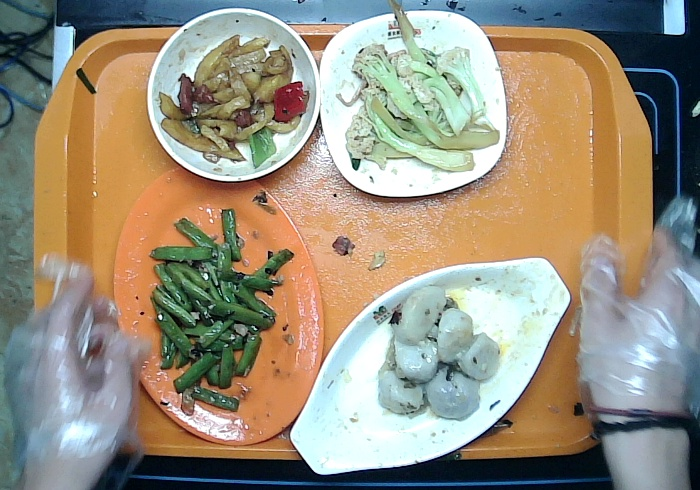NLDX-Bai_Se_Xiao_Fang_Die: (318, 10, 508, 198)
NLDX-Fan_Wan: (147, 7, 321, 184)
NLDX-Ju_Se_Pan: (114, 164, 325, 445)
NLDX-Yu_Pan: (289, 257, 570, 476)
